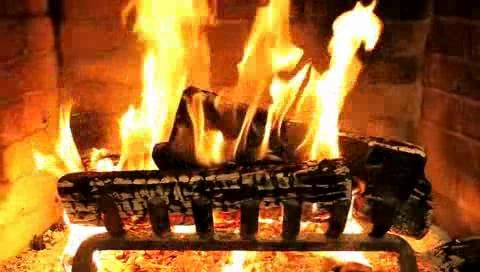fire: (108, 10, 376, 190)
